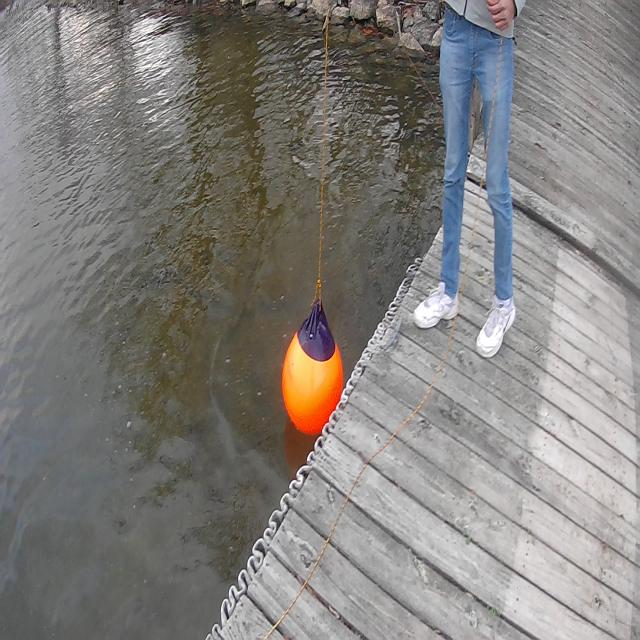Buoy: (277, 286, 348, 446)
